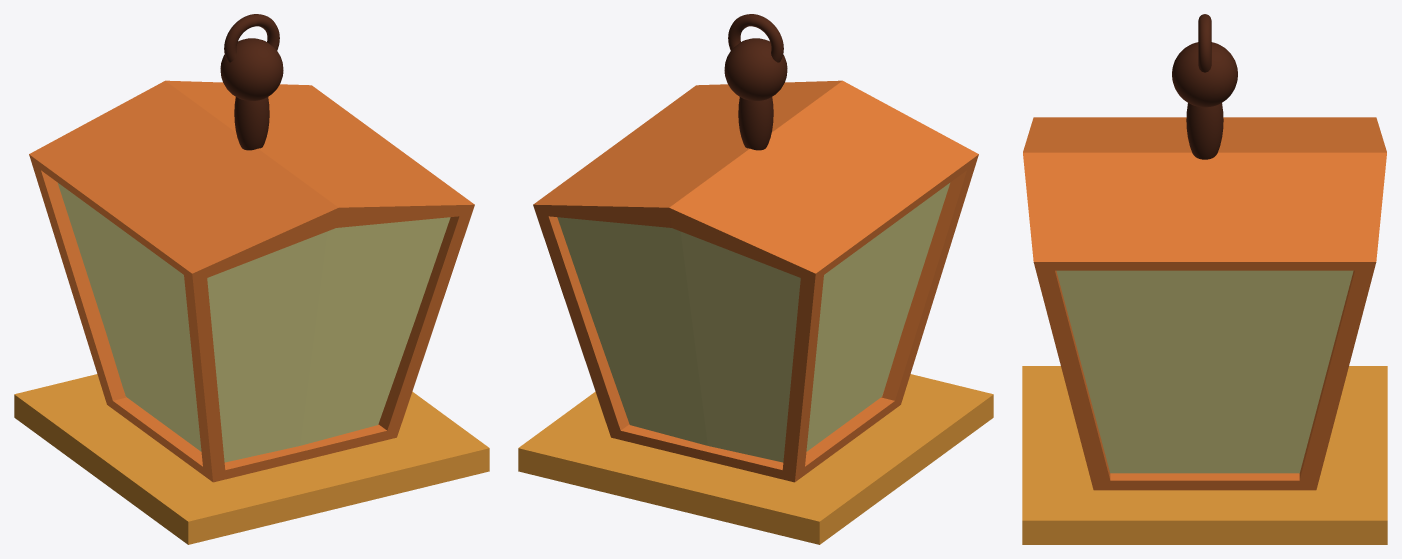
The model's file is Lantern.fbx.
3 renders of one model, left to right at view 1: azimuth 30°, elevation 25°; view 2: azimuth 150°, elevation 25°; view 3: azimuth 270°, elevation 25°, orthographic. The views are drawn at different scales.
Visible parts, largest first — view 1: Lantern.004; view 2: Lantern.004; view 3: Lantern.004.
Part boxes in pixels (x1,y1,x2,y2): Lantern.004: (14,14,489,544); Lantern.004: (518,14,993,544); Lantern.004: (1022,14,1387,544).
Size of the model in its own units: 491 by 667 by 491.
